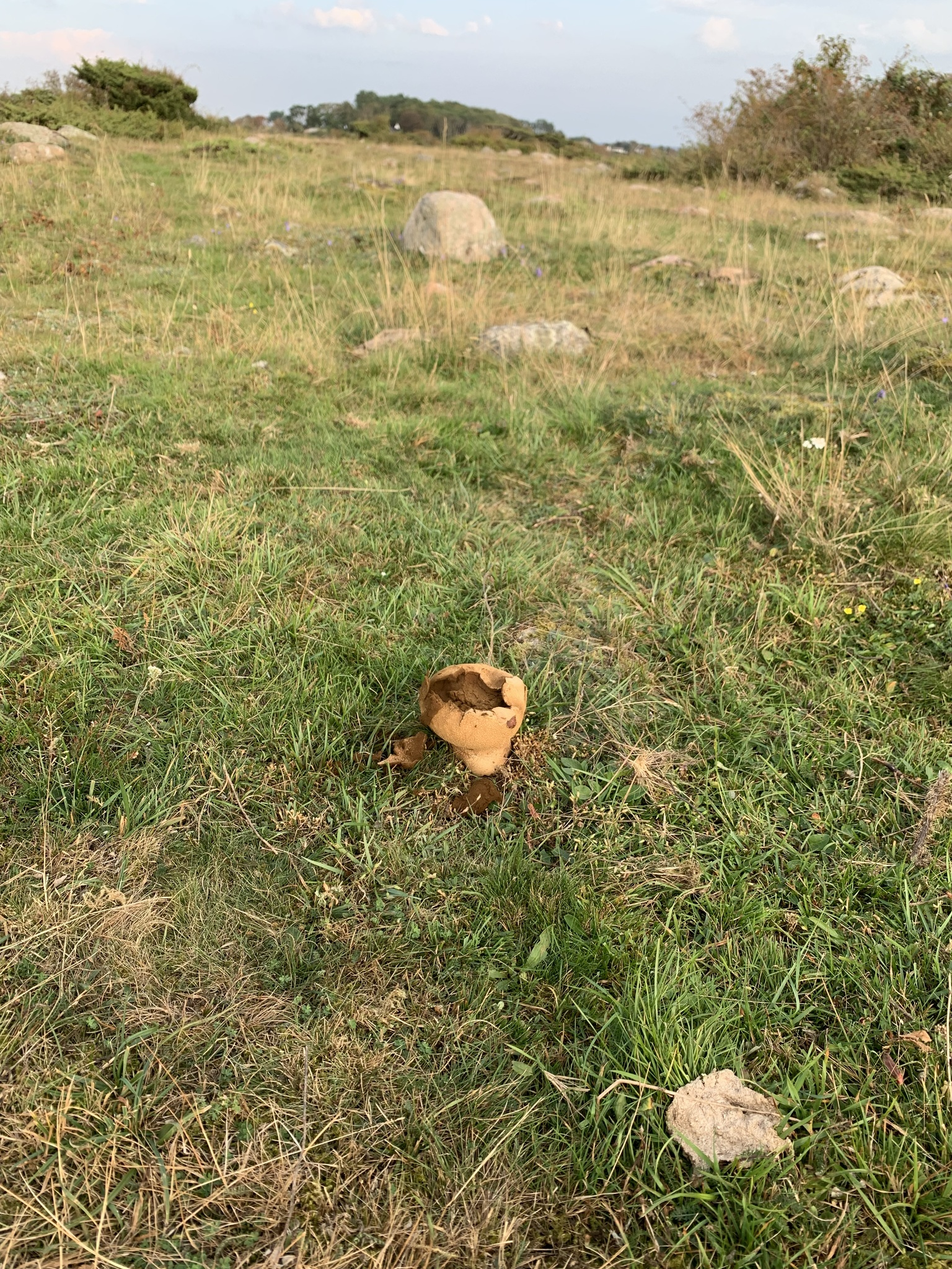Cap: (419, 664, 526, 776)
